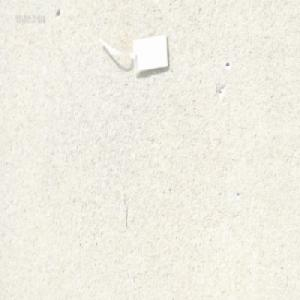LuggageTag: (98, 31, 170, 77)
